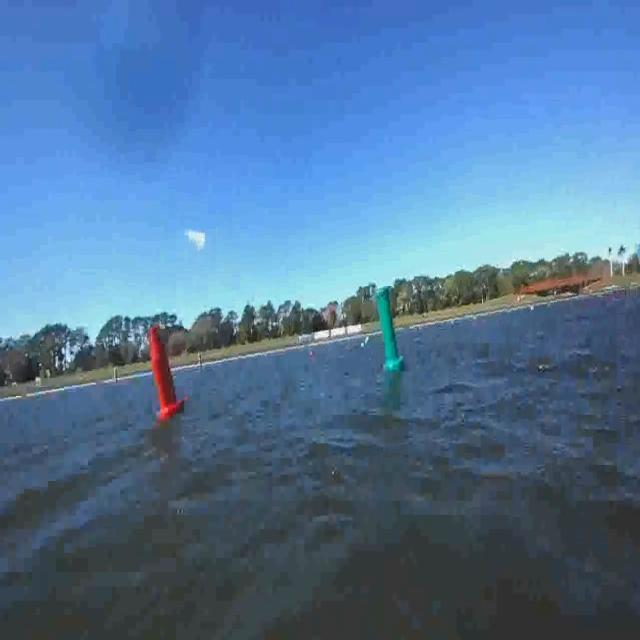green-column-buoy: (378, 288, 406, 373)
red-column-buoy: (149, 328, 186, 419)
